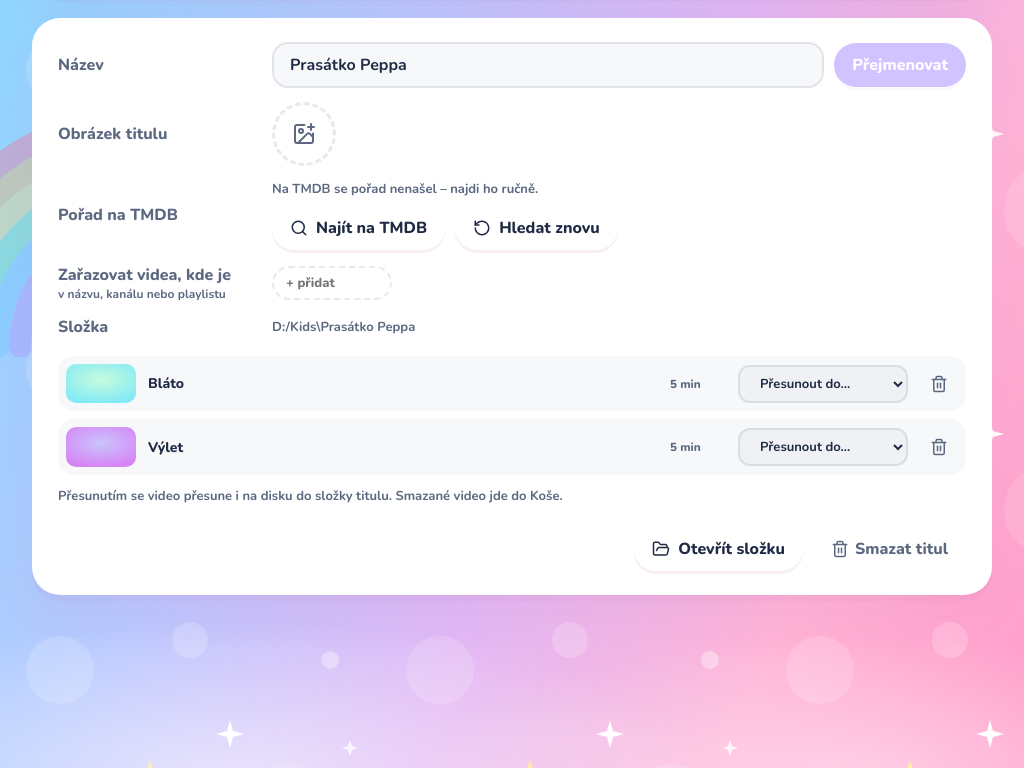
Test case: Pro rodiče → Tituly › mazání do Koše chce druhé kliknutí, chyba se ukáže
This screenshot has width=1024, height=768.
(page scrolled)
Expected: the field showing "Prasátko Peppa" is shown, x1=272 y1=42 x2=824 y2=88
Step 1. Click the button with class "k-trash" in the row of "Bláto" → [939, 384], box x1=920 y1=365 x2=958 y2=403
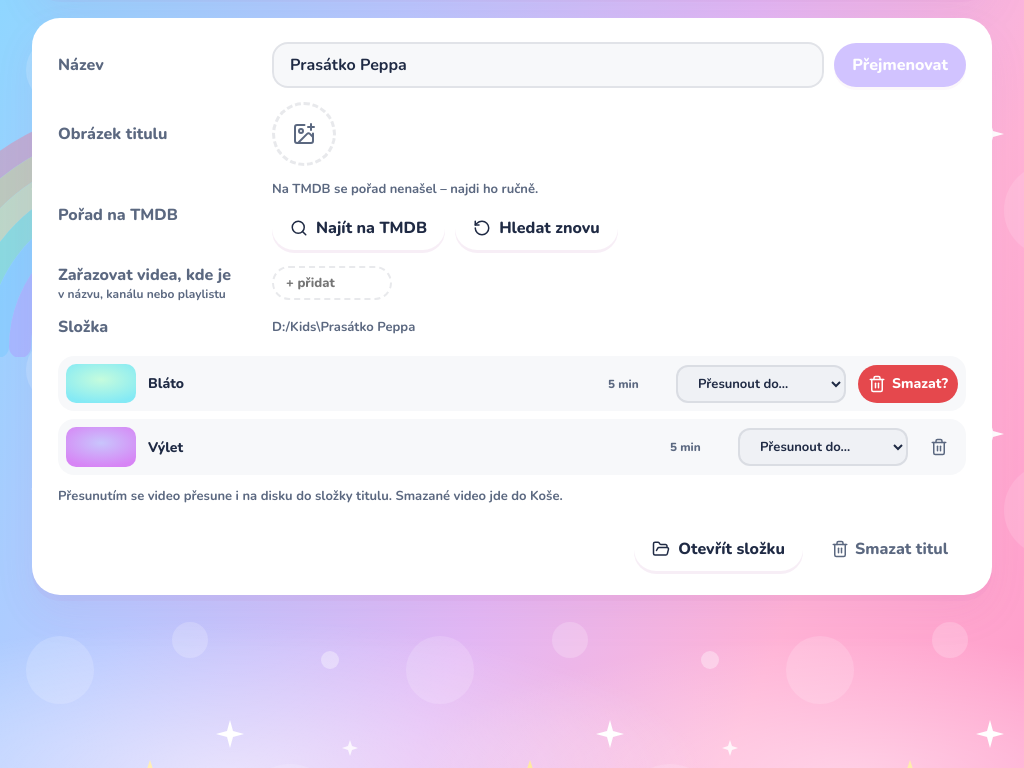
Now the button with class "k-trash" reads "Smazat?"
Step 2. Click the button with class "k-trash" showing "Smazat?" → [908, 384], box x1=858 y1=365 x2=958 y2=403
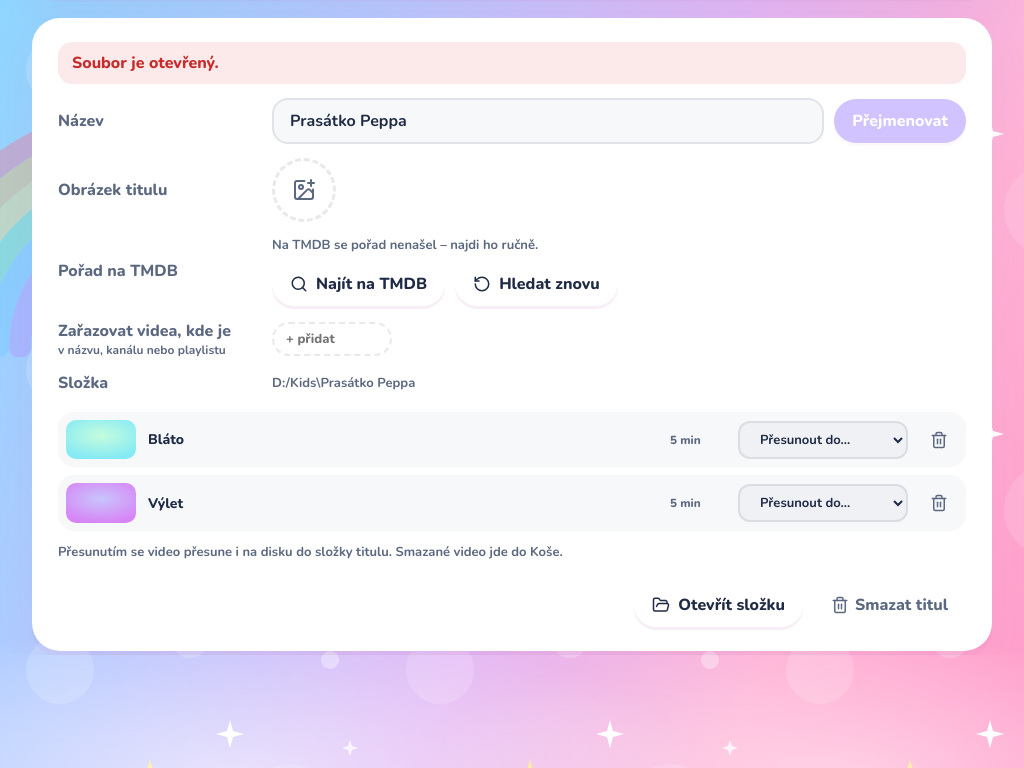
Now the text "Soubor je otevřený." is shown, box x1=58 y1=42 x2=966 y2=84
